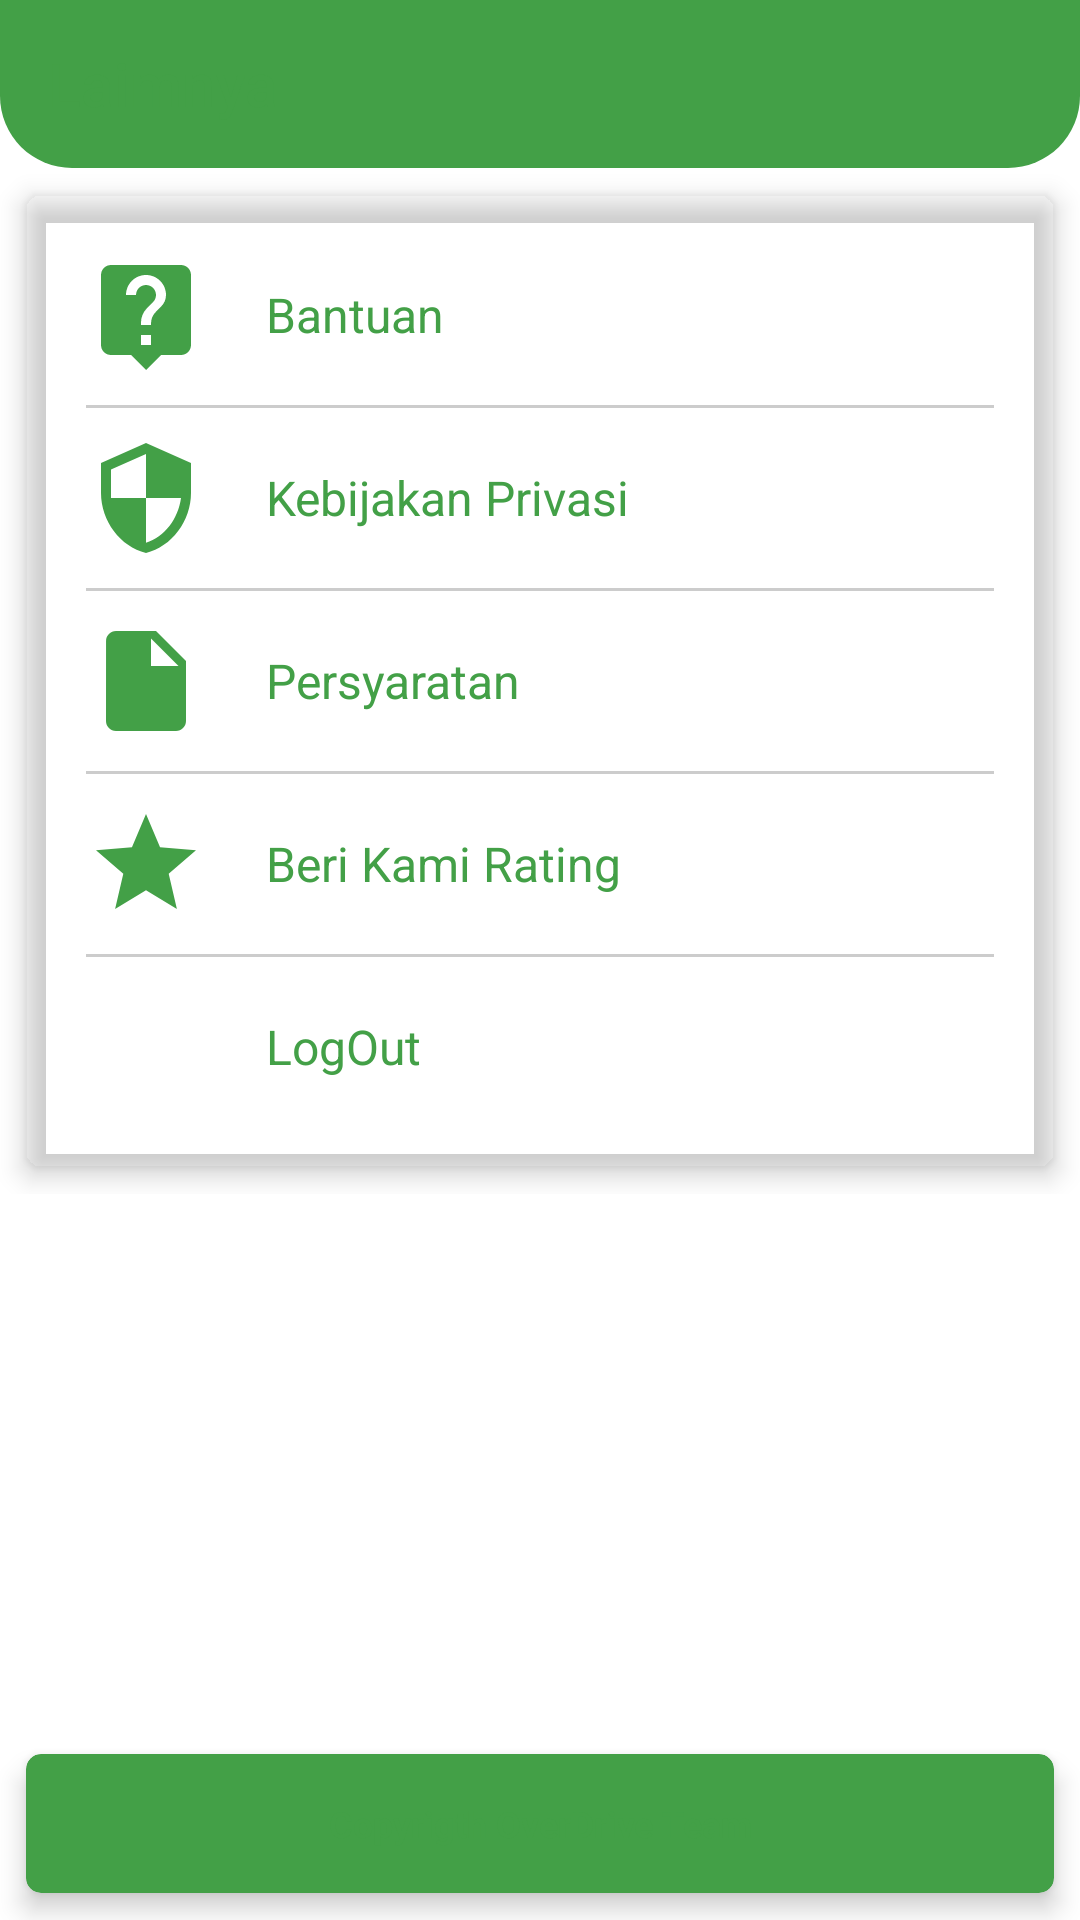

Where to tap for icons on this 1080 x 1920 app screen, as (x=x, y=y):
live help: (x=146, y=317)
persayratan: (x=146, y=681)
security: (x=146, y=498)
star: (x=146, y=861)
